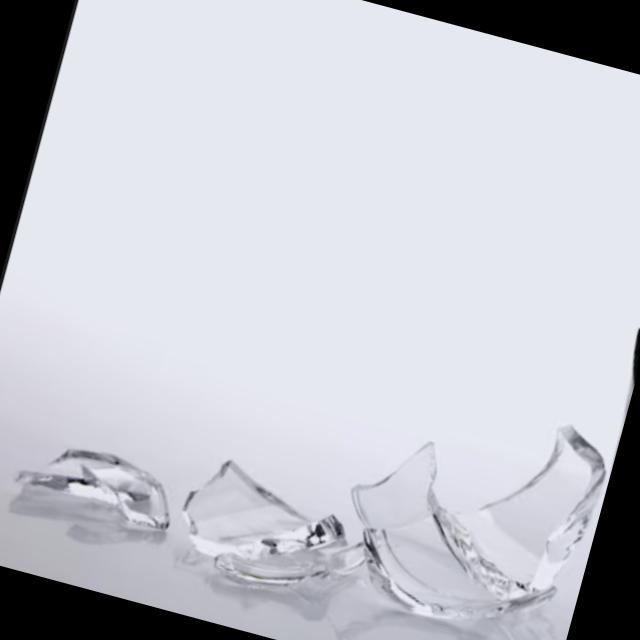PecahanKaca: (3, 174, 640, 640), (324, 372, 618, 640), (168, 448, 382, 612), (537, 310, 640, 640), (9, 429, 185, 543)
